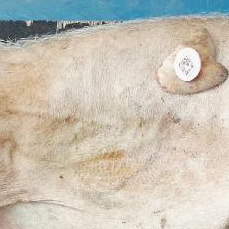text: (166, 38, 216, 88)
